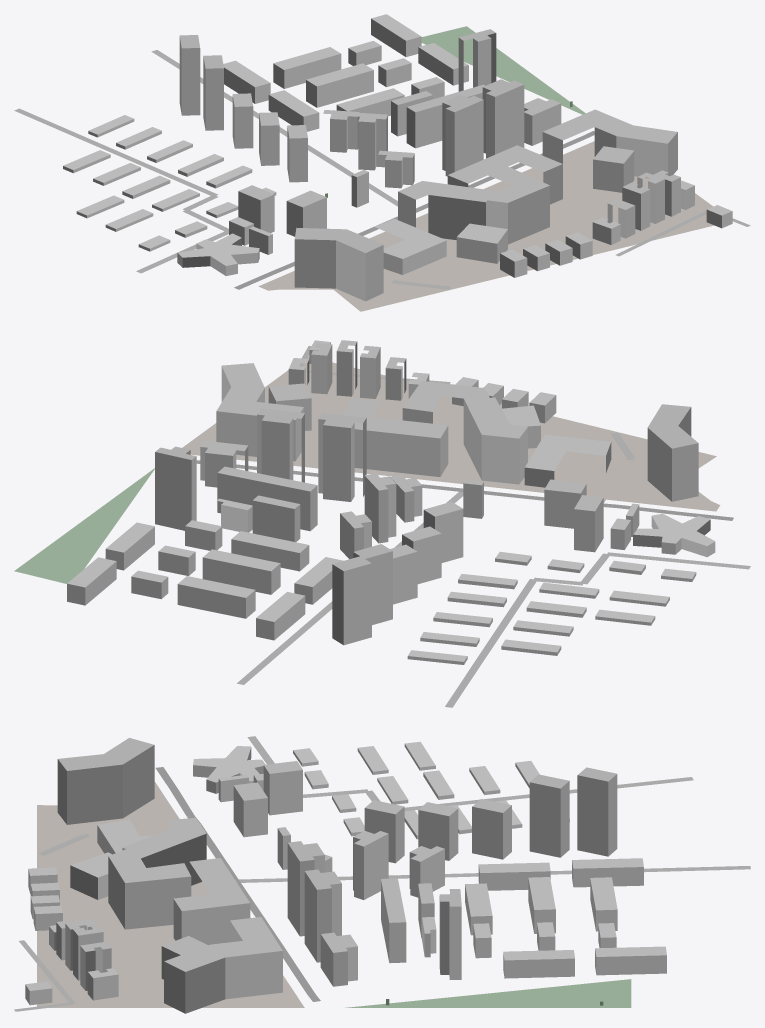
3 renders of one model, top to bottom at view 1: azimuth 30°, elevation 25°; view 2: azimuth 150°, elevation 25°; view 3: azimuth 270°, elevation 25°, orthographic. The views are drawn at different scales.
Size of the model in its own units: 553 by 70.13 by 620.
